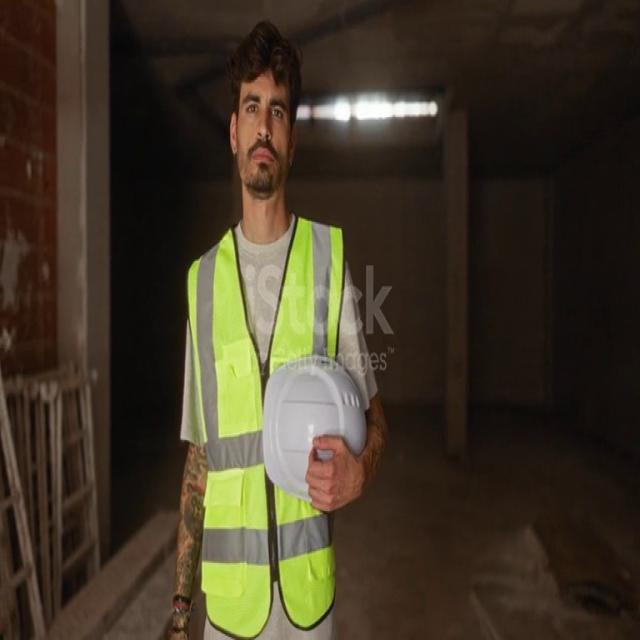sem_capacete: (215, 8, 315, 224)
